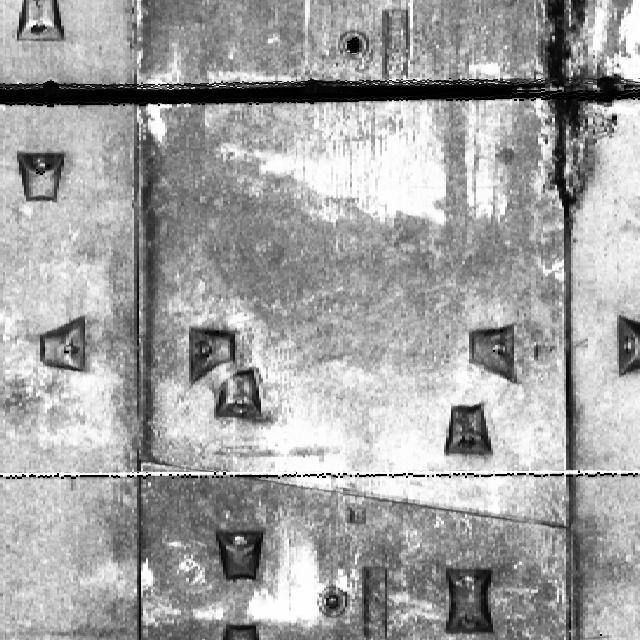leakage: (507, 0, 637, 213)
